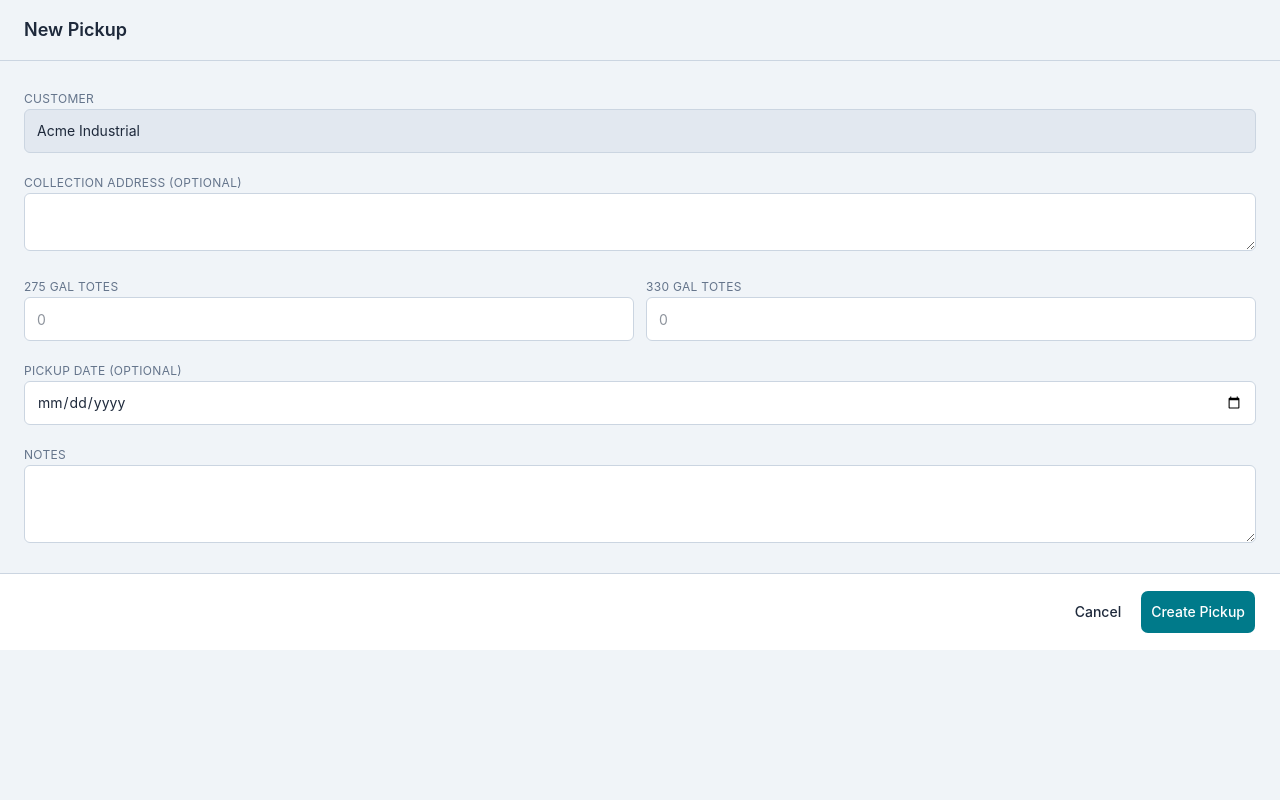
it: PickupForm › blocks submit with "At least one quantity is required." when both counts are empty
Step 1. Click the button "Create Pickup" → (1198, 612), box [1140,590,1256,634]
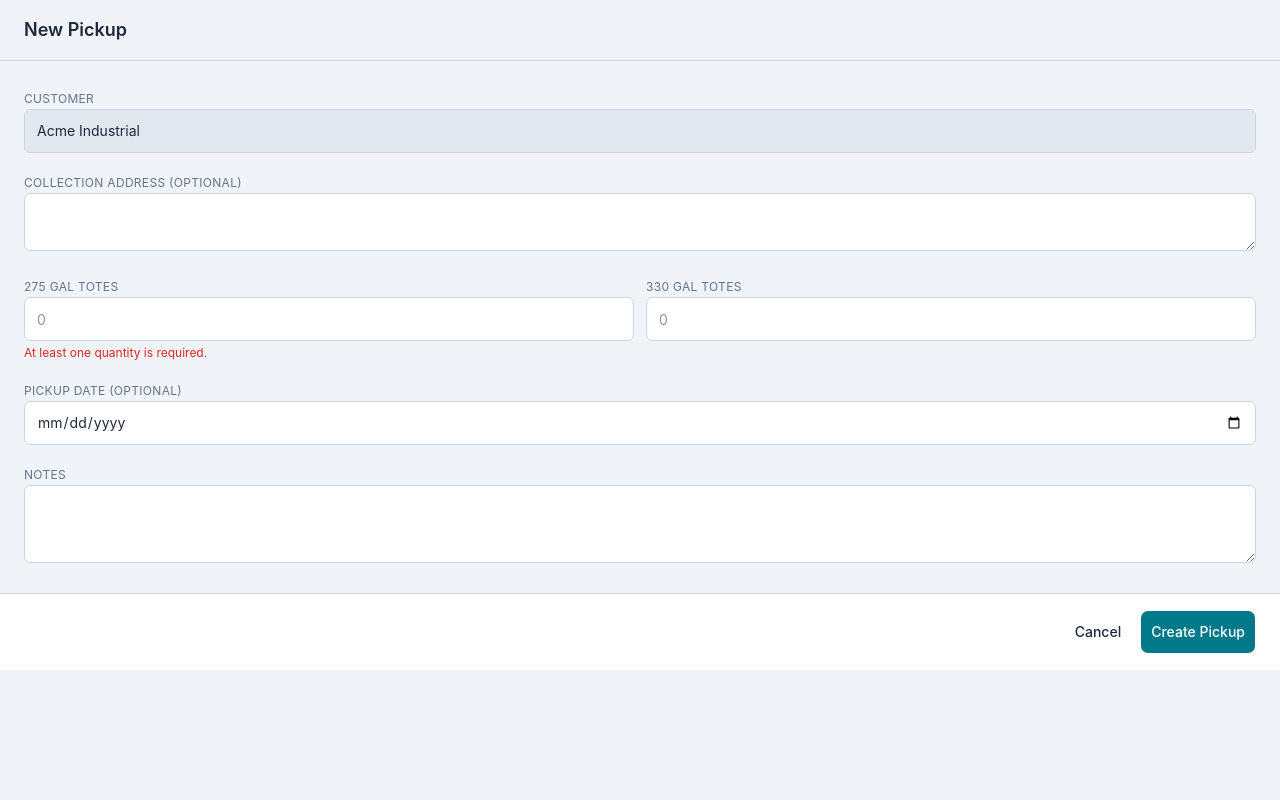
Expected: the text with test id "pickup-qty-error" reads "At least one quantity is required.", [24,345,207,360]
